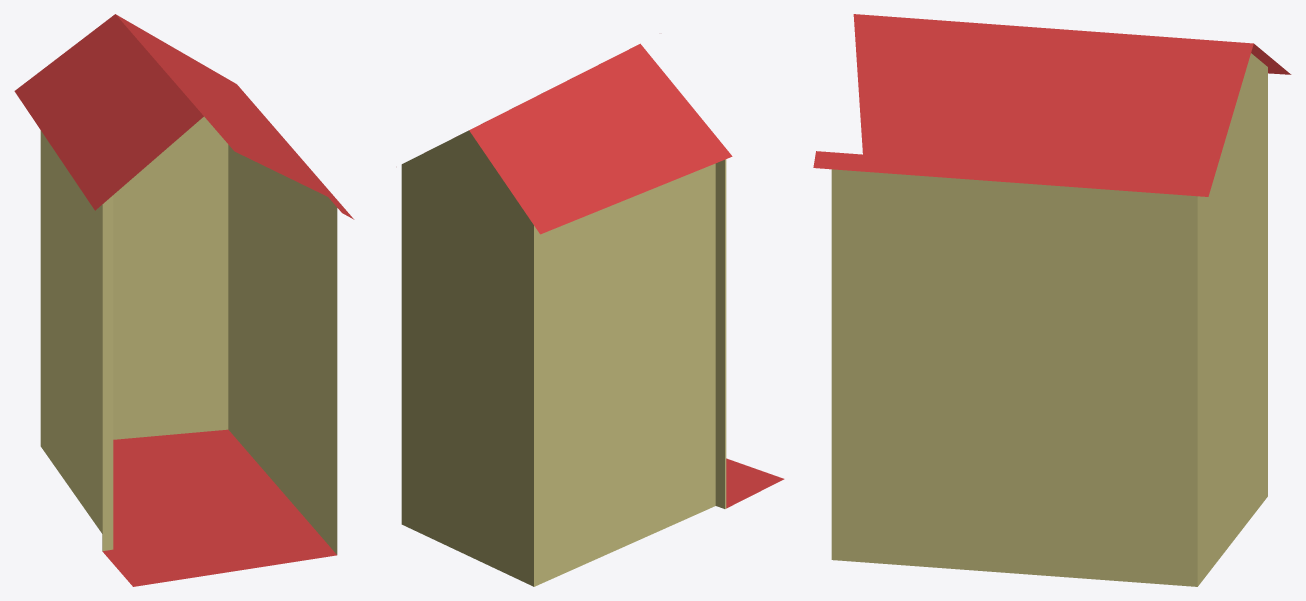
3 renders of one model, left to right at view 1: azimuth 30°, elevation 25°; view 2: azimuth 150°, elevation 25°; view 3: azimuth 270°, elevation 25°, orthographic. The views are drawn at different scales.
Size of the model in its own units: 10.57 by 15.18 by 17.25.
